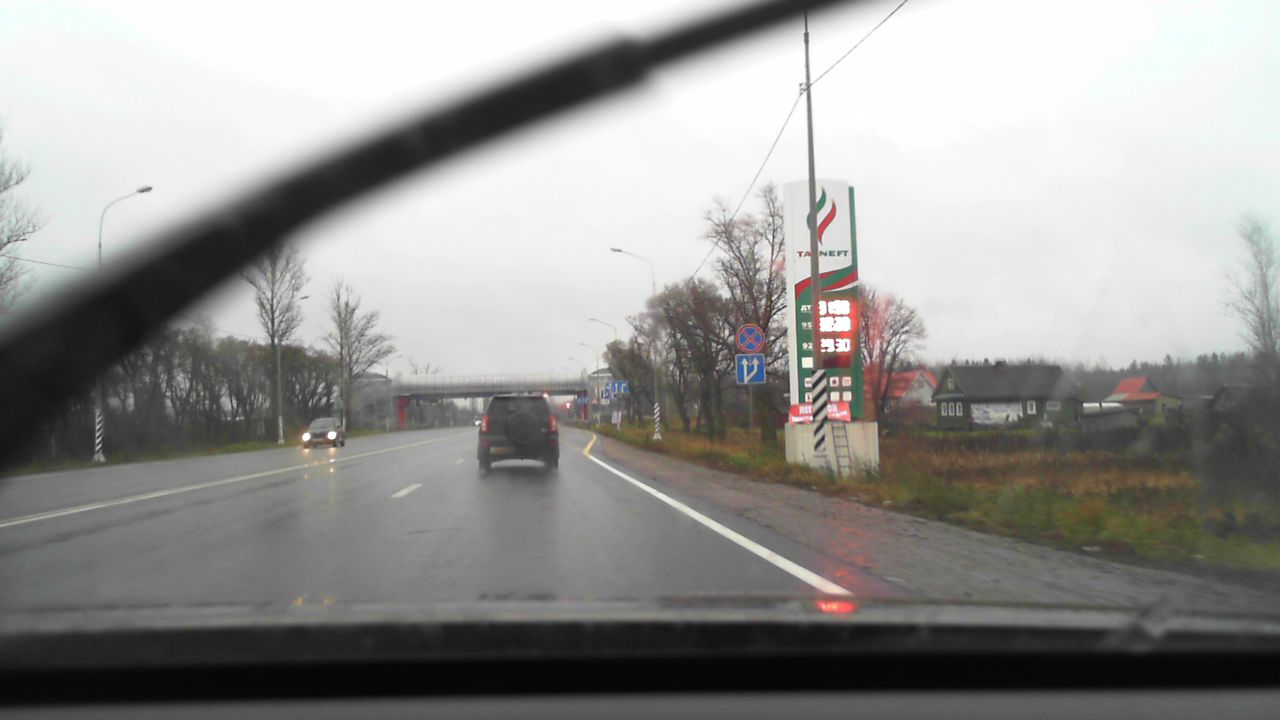No Parking: (735, 323, 765, 353)
